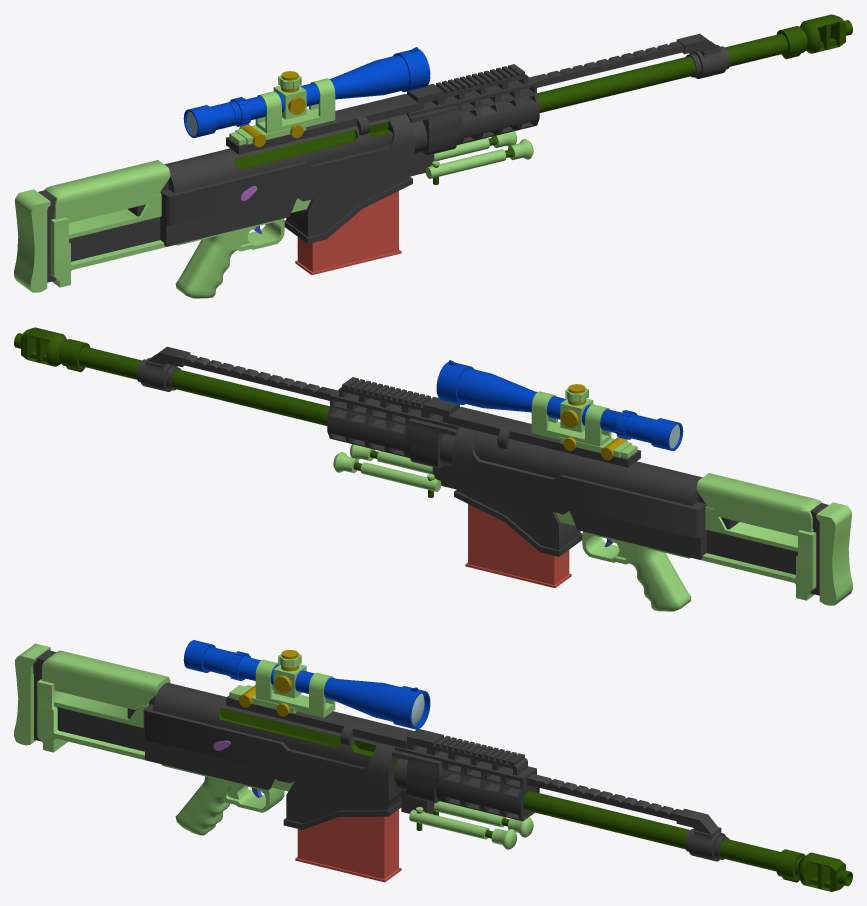
The model's file is SNIPER.fbx.
The picture shows the model from 3 angles, top to bottom: view 1: azimuth 30°, elevation 25°; view 2: azimuth 150°, elevation 25°; view 3: azimuth 330°, elevation 25°; orthographic projection.
Parts seen in each view (by area): view 1: Cylinder; view 2: Cylinder; view 3: Cylinder.
Boxes of the visible parts, box(x1,y1,x2,y2) form: Cylinder: box(14, 14, 852, 298); Cylinder: box(14, 327, 852, 611); Cylinder: box(14, 640, 852, 891).
Bounding box in the file's own units: 552 × 127 × 31.6.
